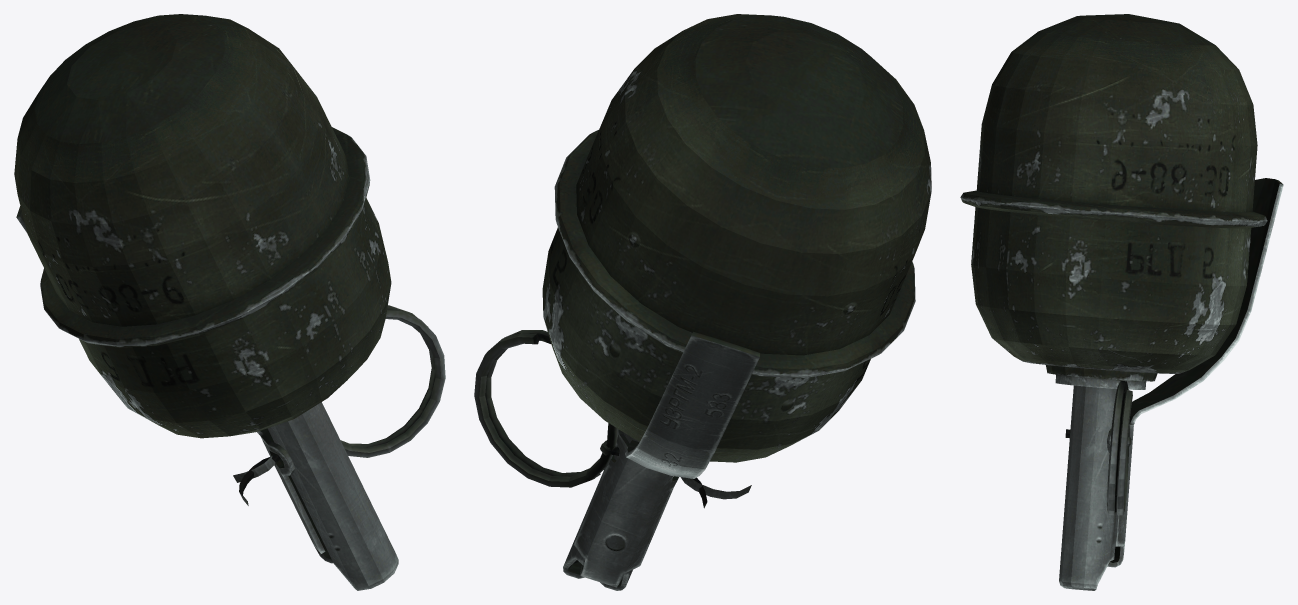
3 views of the same model, side by side, from view 1: azimuth 30°, elevation 25°; view 2: azimuth 150°, elevation 25°; view 3: azimuth 270°, elevation 25° (orthographic). The views are drawn at different scales.
Visible parts, largest first — view 1: TW_5448be9a4bdc2dfd2f8b456a_PZ_Import; view 2: TW_5448be9a4bdc2dfd2f8b456a_PZ_Import; view 3: TW_5448be9a4bdc2dfd2f8b456a_PZ_Import.
Boxes of the visible parts, <box> form: TW_5448be9a4bdc2dfd2f8b456a_PZ_Import: <box>14,14,445,590</box>; TW_5448be9a4bdc2dfd2f8b456a_PZ_Import: <box>474,14,931,590</box>; TW_5448be9a4bdc2dfd2f8b456a_PZ_Import: <box>960,14,1283,590</box>.
Size of the model in its own units: 0.0486 by 0.0388 by 0.0661.
1 material, 1 textured.
